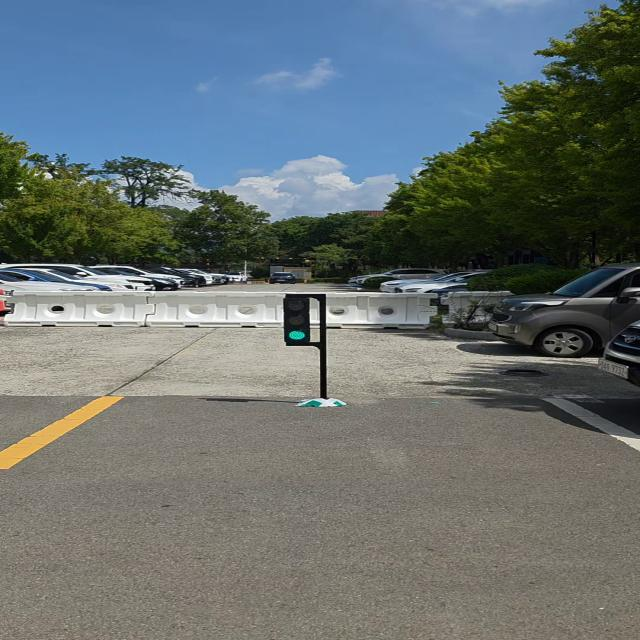green: (278, 294, 316, 348)
